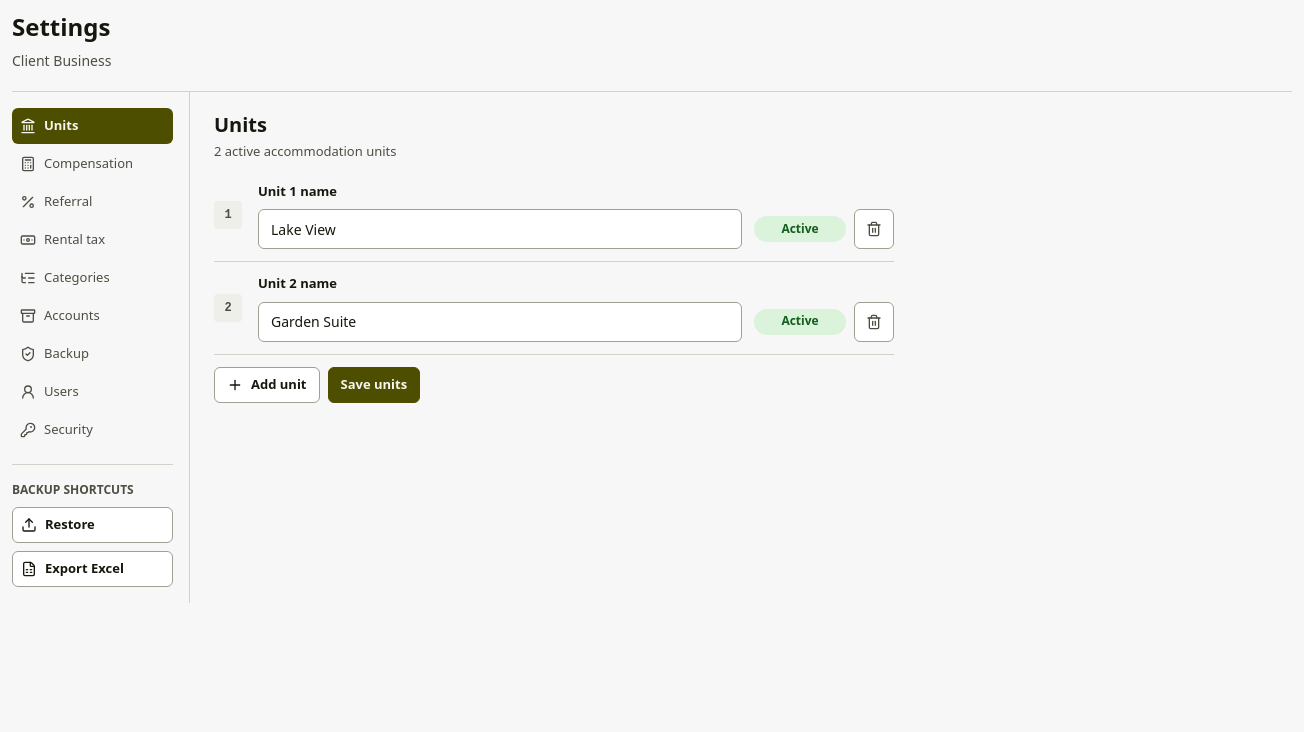
Test case: settings › requires a reason in the rate form when the effective date is historical
The image size is (1304, 732).
Click the tab "Referral" at (92, 202), box [12,184,173,220]
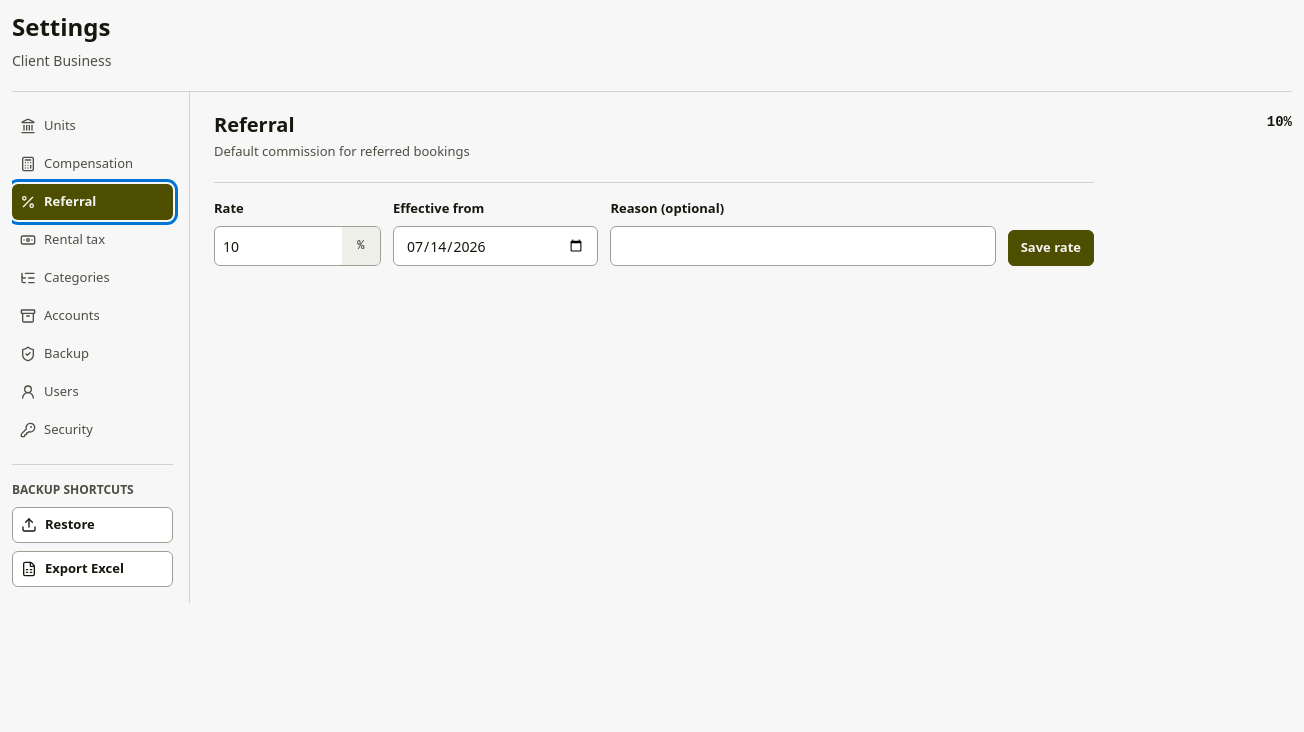
Type "2026-06-01" into the date field labelled "Effective from" at (496, 246), box [393,226,598,266]
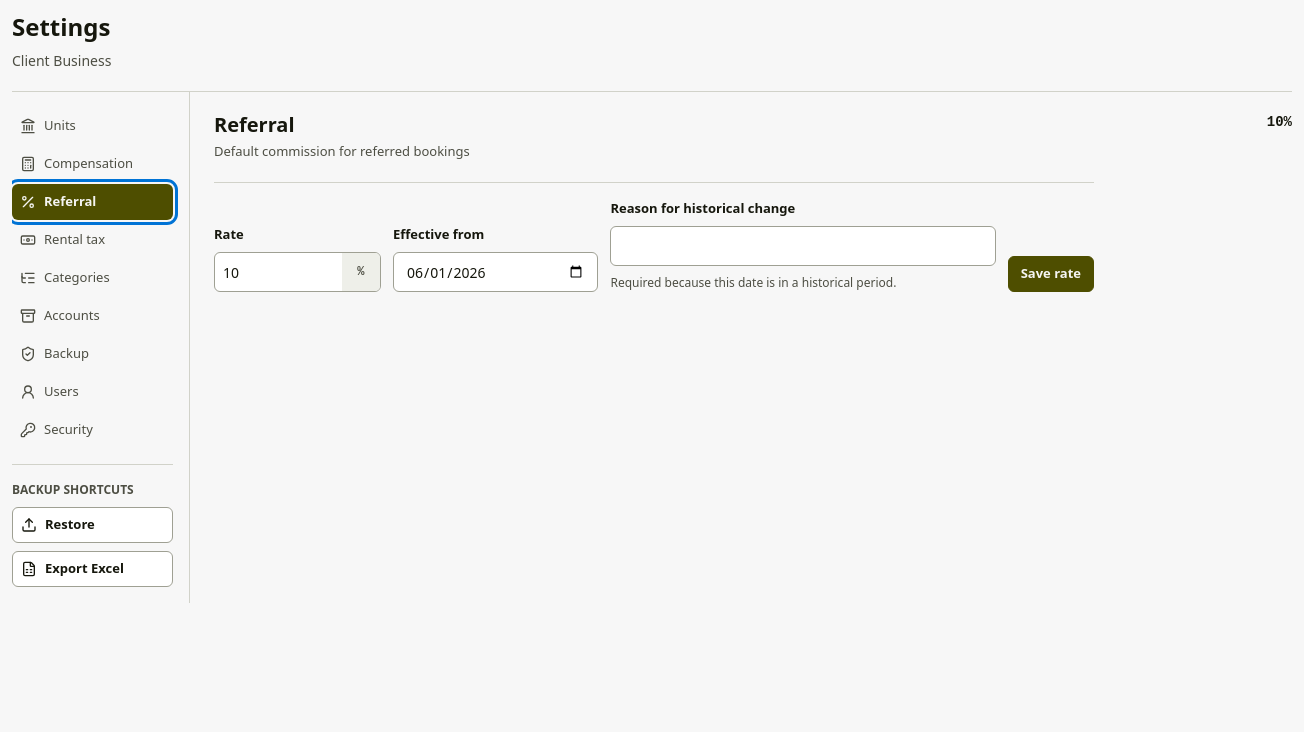
Expected: the text "Required because this date is in a historical period." is shown, [610,274,896,291]
